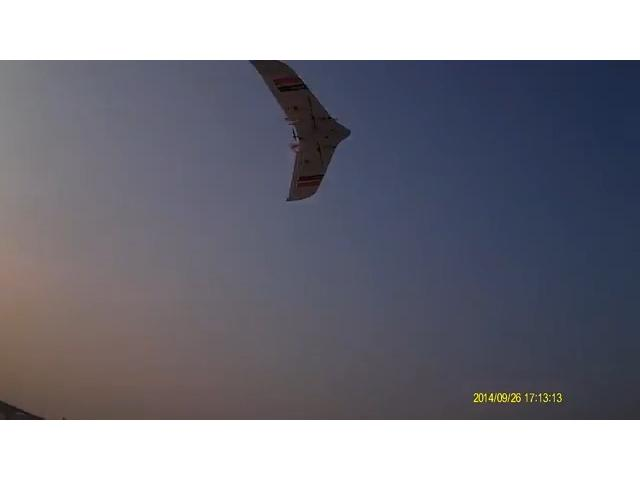Anti-Drone: (243, 60, 369, 210)
